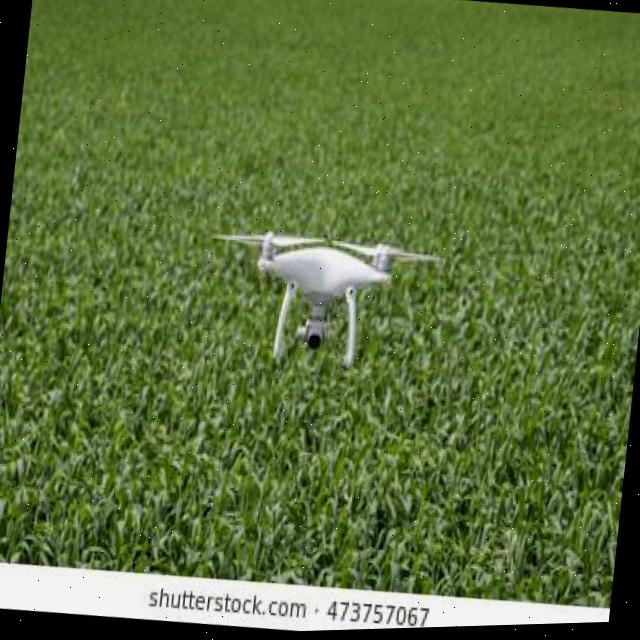drone: (0, 262, 639, 640)
